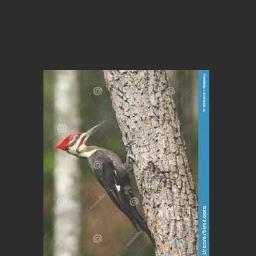Woodpecker: (57, 120, 156, 248)
